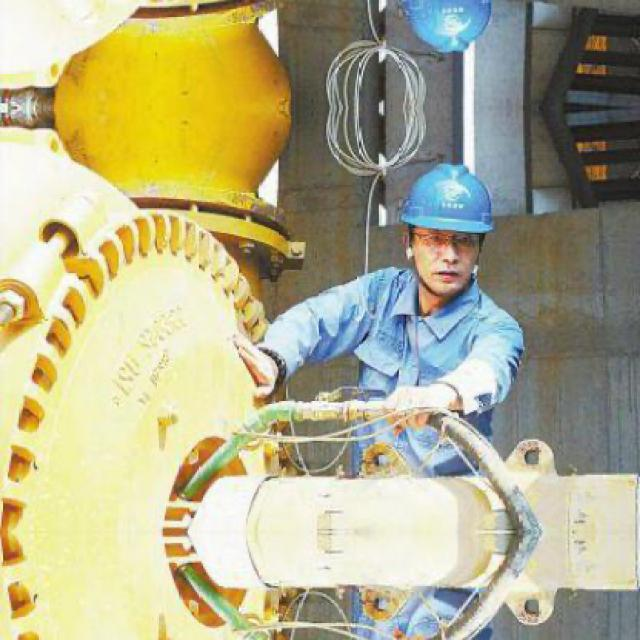2: (248, 154, 535, 478)
helmet: (389, 153, 503, 299), (388, 0, 503, 65)
